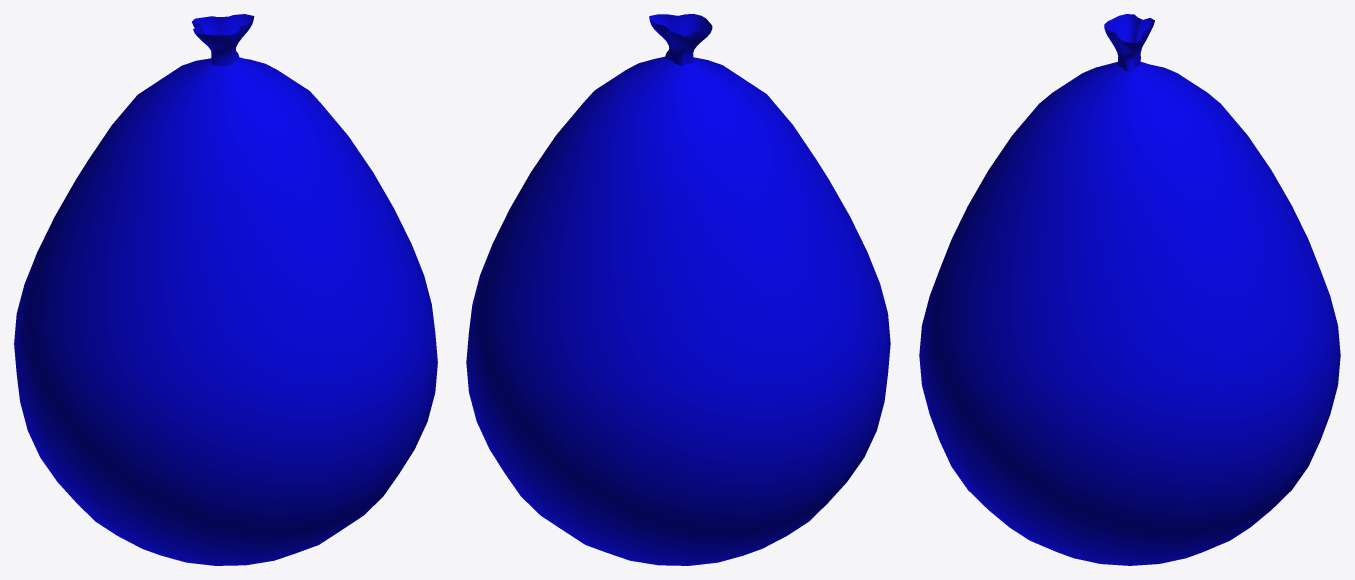
Rendered from WaterBalloon.fbx.
3 views of the same model, side by side, from view 1: azimuth 30°, elevation 25°; view 2: azimuth 150°, elevation 25°; view 3: azimuth 270°, elevation 25° (orthographic).
Visible parts, largest first — view 1: nurbsToPoly2; view 2: nurbsToPoly2; view 3: nurbsToPoly2.
Part boxes in pixels (x1,y1,x2,y2): nurbsToPoly2: [14, 14, 437, 565]; nurbsToPoly2: [466, 14, 890, 565]; nurbsToPoly2: [919, 14, 1340, 565].
Bounding box in the file's own units: 9.91 × 13.42 × 9.91.
